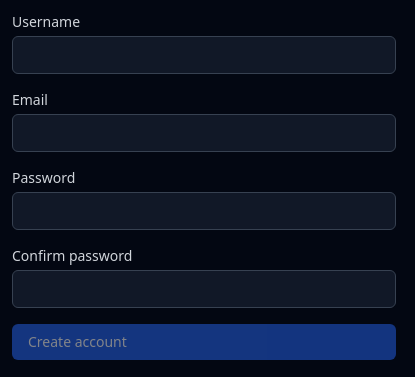
RegisterForm › shows loading spinner while submitting
Type "alice" into the field labelled "Username".
click(204, 55); type("alice")  # box [12, 36, 396, 74]
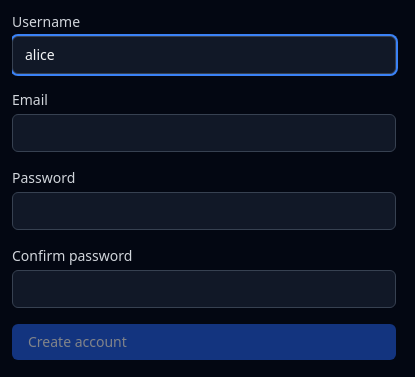
Type "alice@example.com" into the field labelled "Email".
click(204, 133); type("alice@example.com")  # box [12, 114, 396, 152]
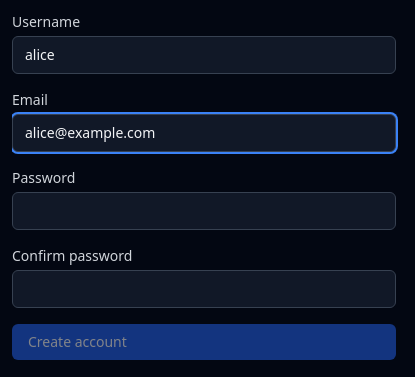
Type "Password1" into the password field labelled "Password".
click(204, 211); type("Password1")  # box [12, 192, 396, 230]
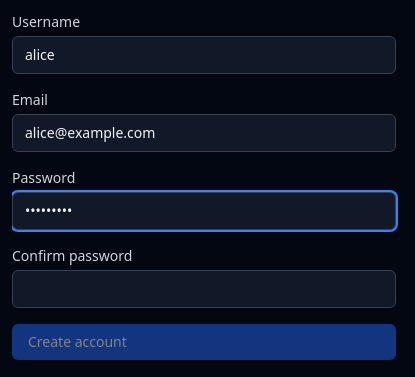
Type "Password1" into the password field labelled "Confirm password".
click(204, 289); type("Password1")  # box [12, 270, 396, 308]
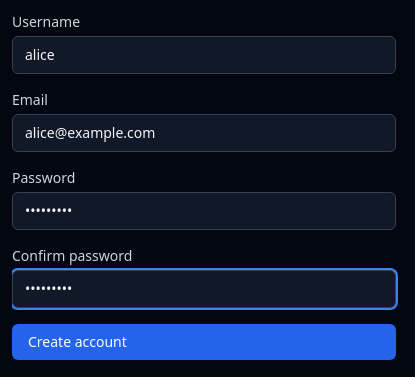
Click the button "Create account".
click(77, 342)  # box [12, 324, 396, 360]
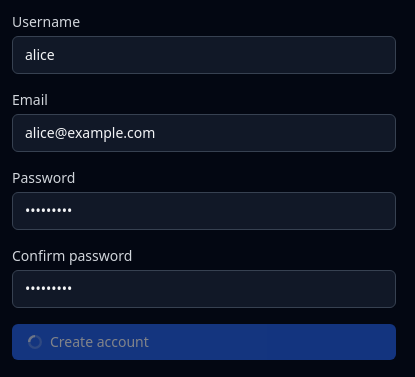
Result: the icon named "Loading" is shown at [28, 335, 42, 349]
